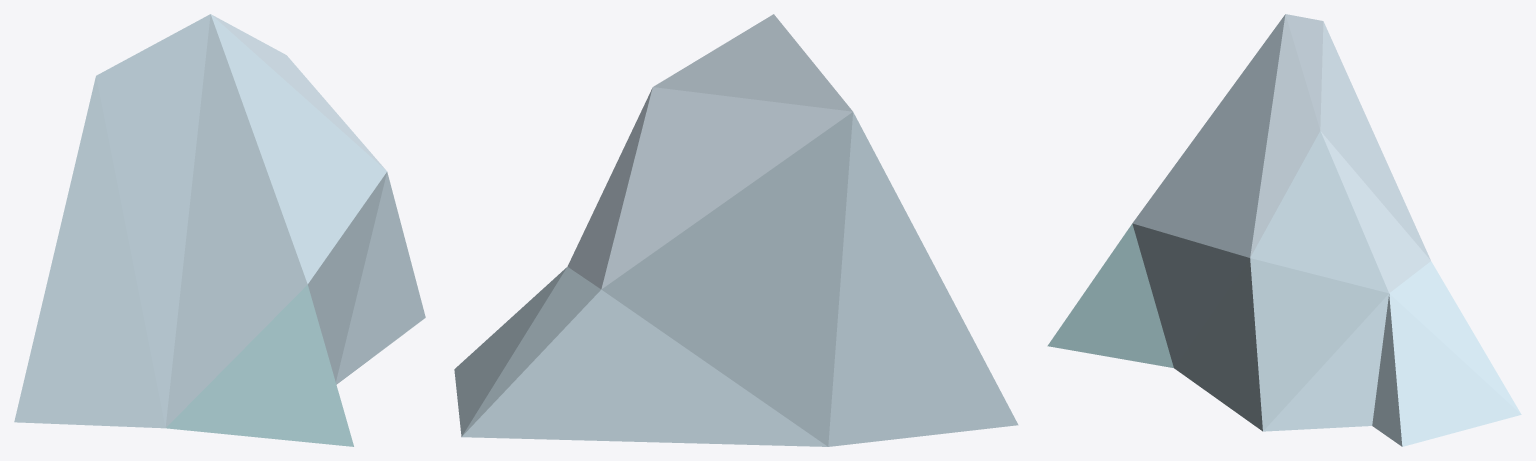
Rendered from Iceberg 16.fbx.
3 views of the same model, side by side, from view 1: azimuth 30°, elevation 25°; view 2: azimuth 150°, elevation 25°; view 3: azimuth 270°, elevation 25° (orthographic). The views are drawn at different scales.
Parts seen in each view (by area): view 1: Iceberg 13; view 2: Iceberg 13; view 3: Iceberg 13.
Part boxes in pixels (bbox=[...]): Iceberg 13: bbox=[14, 14, 425, 446]; Iceberg 13: bbox=[454, 14, 1018, 446]; Iceberg 13: bbox=[1047, 14, 1521, 446].
Size of the model in its own units: 2877 by 2108 by 2795.
